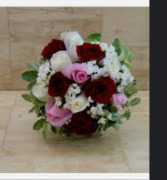RedRose: (75, 40, 106, 66), (90, 78, 117, 106), (45, 69, 71, 98)
